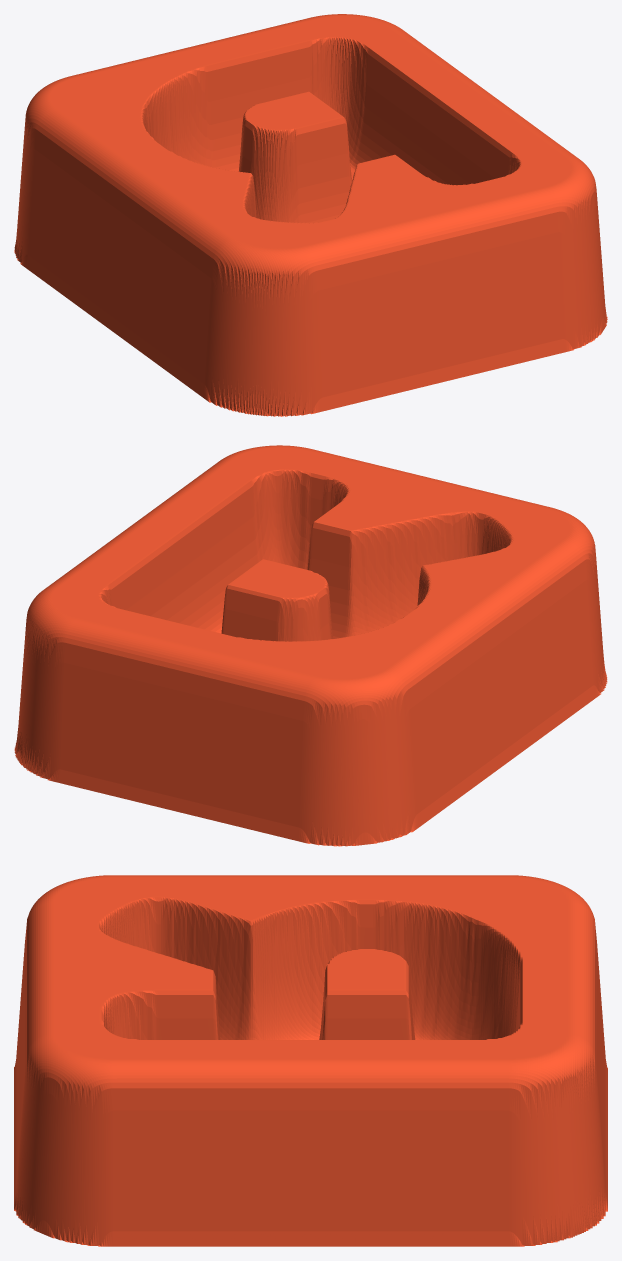
File: mold.glb
3 views of the same model, one above another, from view 1: azimuth 30°, elevation 25°; view 2: azimuth 150°, elevation 25°; view 3: azimuth 270°, elevation 25° (orthographic). The views are drawn at different scales.
Visible parts, largest first — view 1: geometry_0; view 2: geometry_0; view 3: geometry_0.
Boxes of the visible parts, left/top/right/bottom form: geometry_0: left=14, top=14, right=607, bottom=416; geometry_0: left=14, top=445, right=607, bottom=846; geometry_0: left=14, top=875, right=607, bottom=1246.
Bounding box in the file's own units: 0.0464 × 0.0172 × 0.0542.
